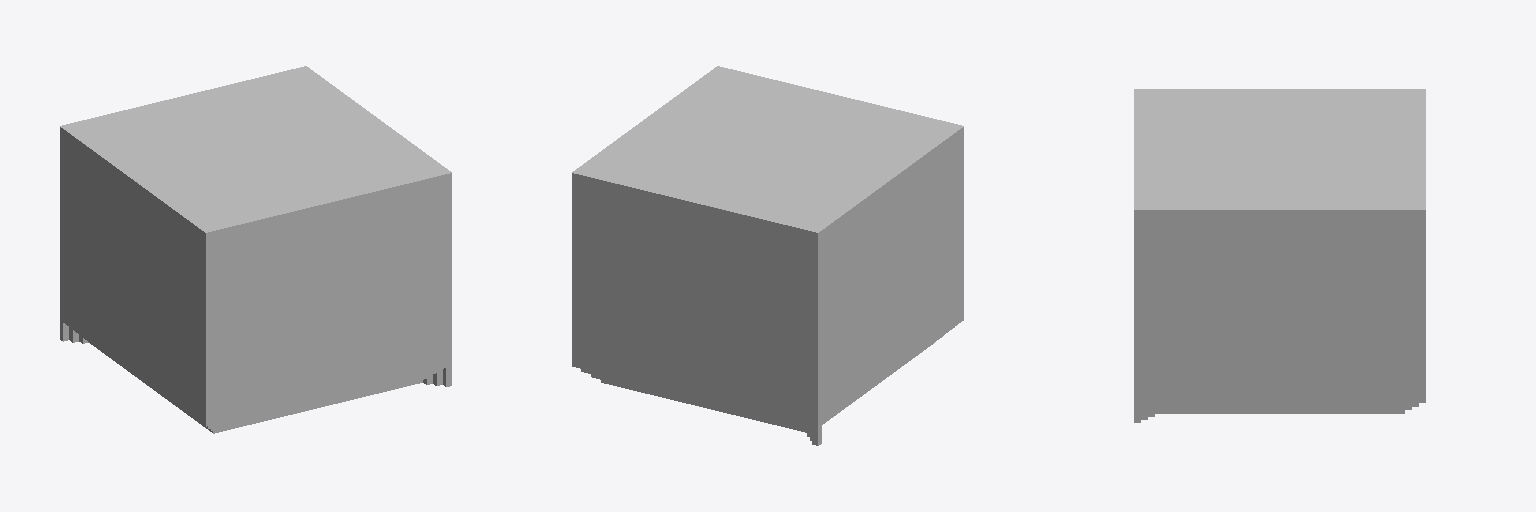
File: _ntitled.obj
3 renders of one model, left to right at view 1: azimuth 30°, elevation 25°; view 2: azimuth 150°, elevation 25°; view 3: azimuth 270°, elevation 25°, orthographic.
Parts seen in each view (by area): view 1: object 1; view 2: object 1; view 3: object 1.
Part boxes in pixels (x1,y1,x2,y2): object 1: (60, 66, 451, 433); object 1: (572, 66, 963, 445); object 1: (1134, 89, 1425, 422).
Bounding box in the file's own units: 4 × 3.3 × 4.1.